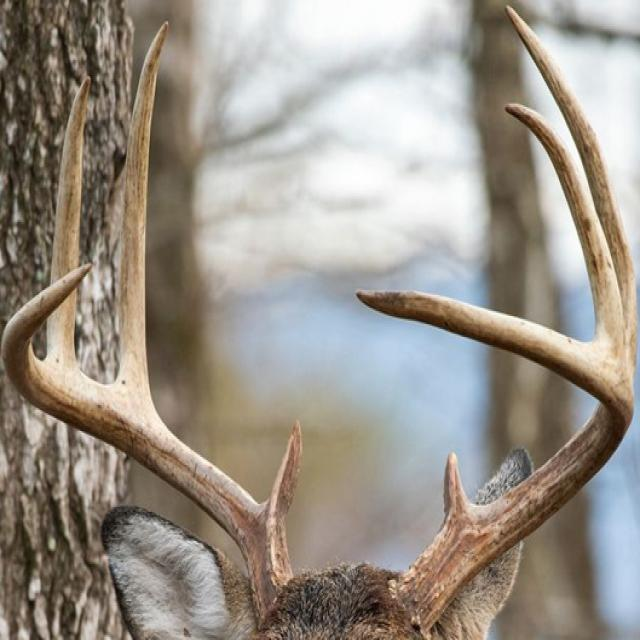L-F: (355, 287, 634, 638)
L-G1: (443, 452, 472, 518)
L-G2: (504, 2, 637, 380)
L-G3: (503, 101, 632, 379)
R-F: (1, 263, 293, 628)
R-G1: (263, 417, 303, 531)
R-G2: (115, 20, 170, 398)
